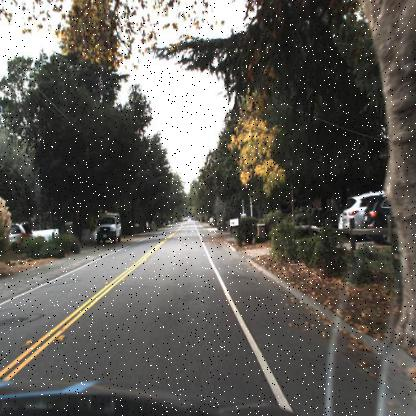car: (341, 189, 382, 236), (0, 218, 36, 255), (95, 208, 123, 246)
